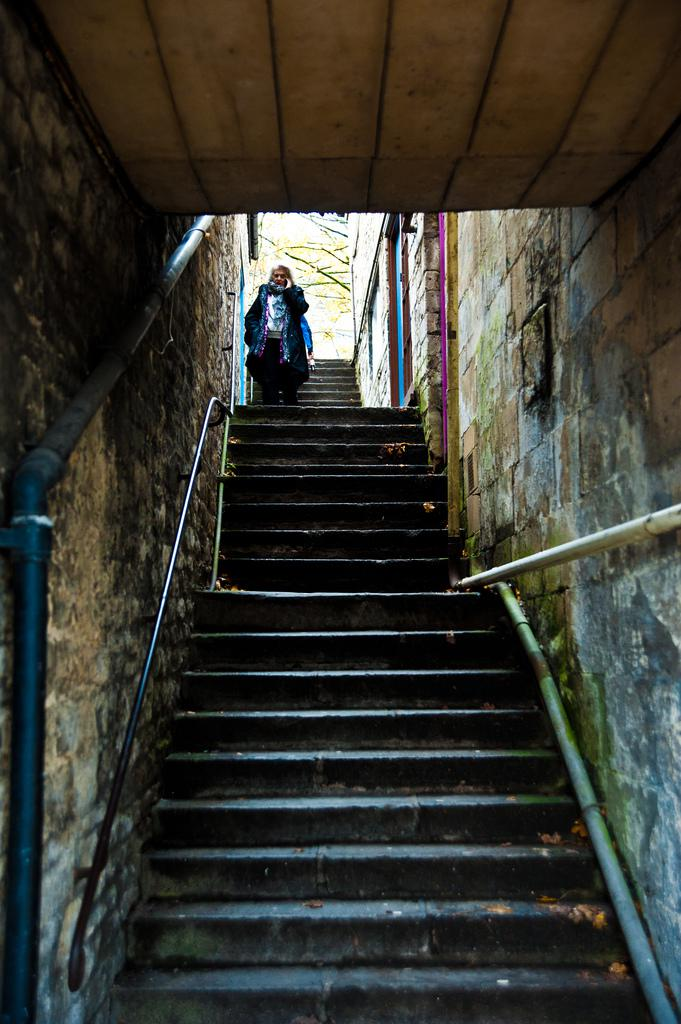stairs: (118, 343, 628, 996)
